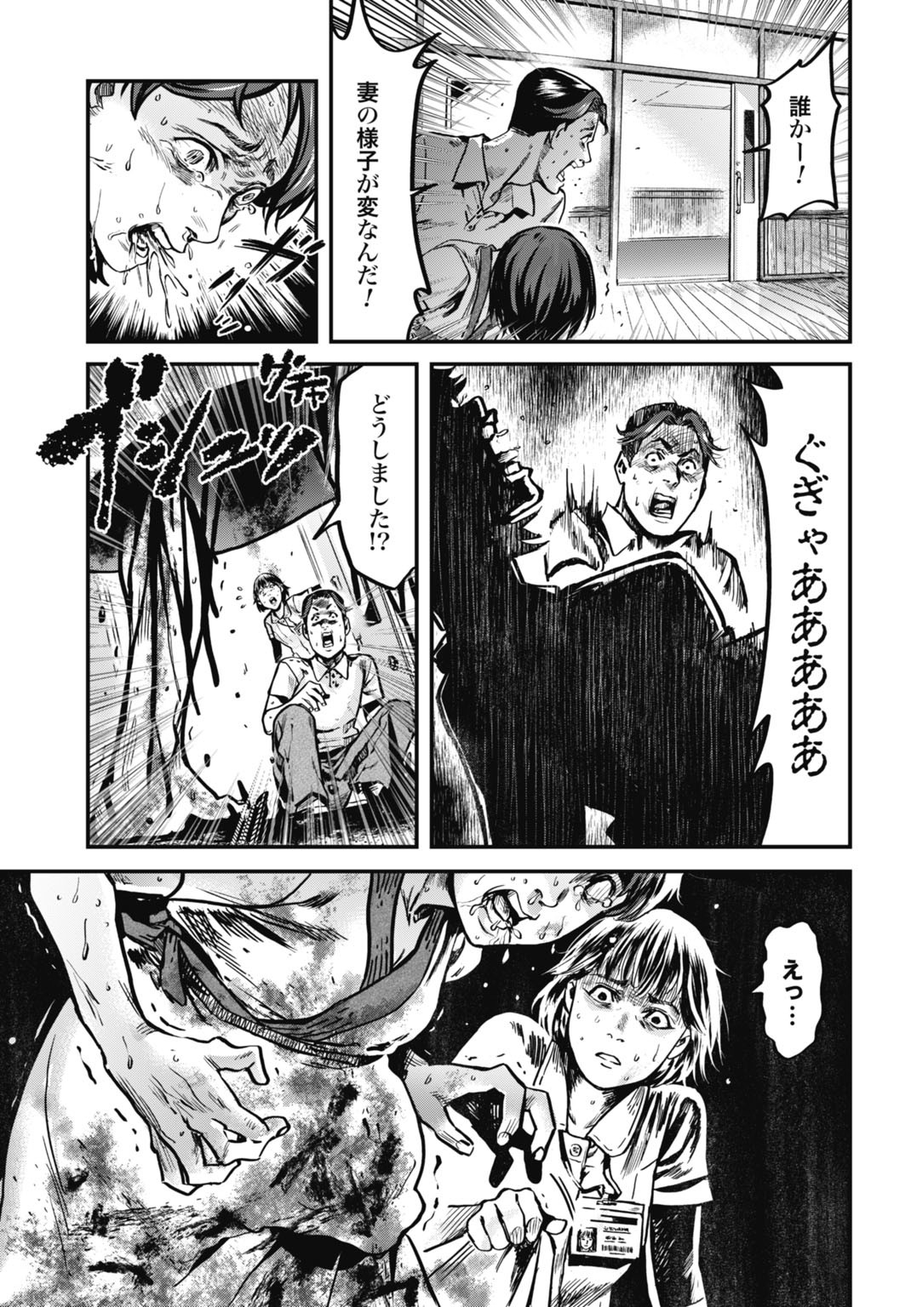bubbles: (733, 364, 850, 848), (330, 2, 448, 343), (306, 368, 418, 598), (752, 28, 845, 227), (743, 916, 829, 1075)
